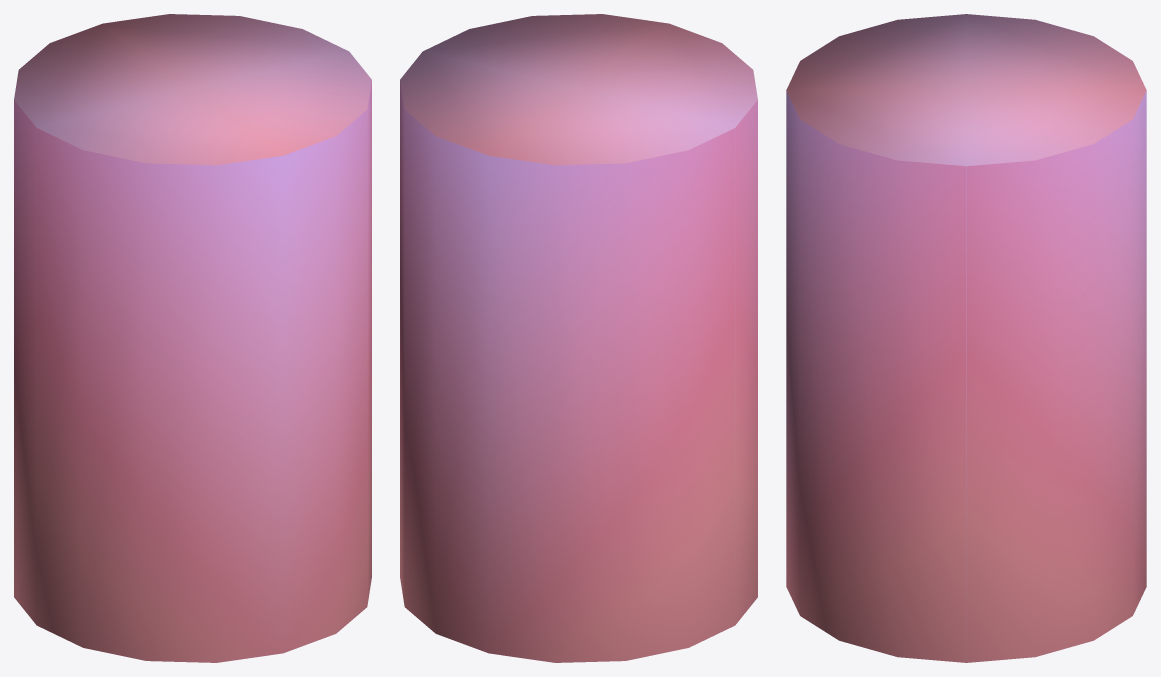
The model's file is dun.fbx.
3 views of the same model, side by side, from view 1: azimuth 30°, elevation 25°; view 2: azimuth 150°, elevation 25°; view 3: azimuth 270°, elevation 25° (orthographic).
Visible parts, largest first — view 1: Circle; view 2: Circle; view 3: Circle.
Boxes of the visible parts, x1,y1,x2,y2 form: Circle: (14, 14, 371, 662); Circle: (400, 14, 757, 662); Circle: (786, 14, 1146, 662).
Size of the model in its own units: 6185 by 6185 by 9409.
1 material, 1 textured.
